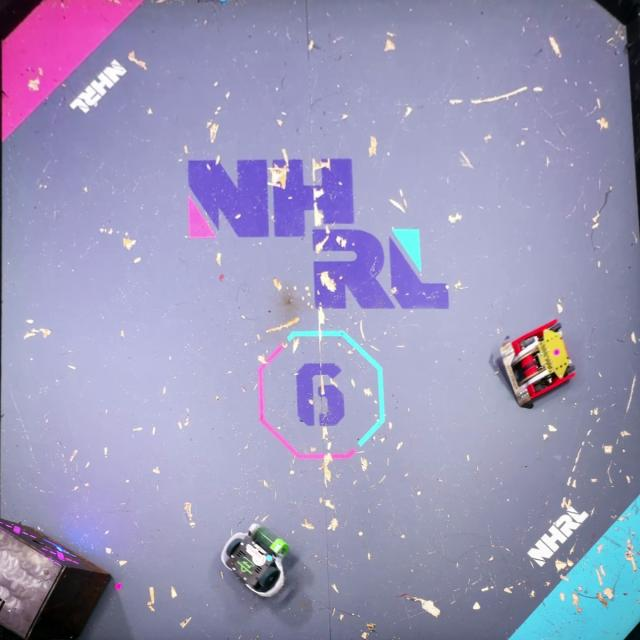housebot: (0, 517, 113, 639)
robot: (497, 318, 578, 408), (222, 522, 292, 602)
